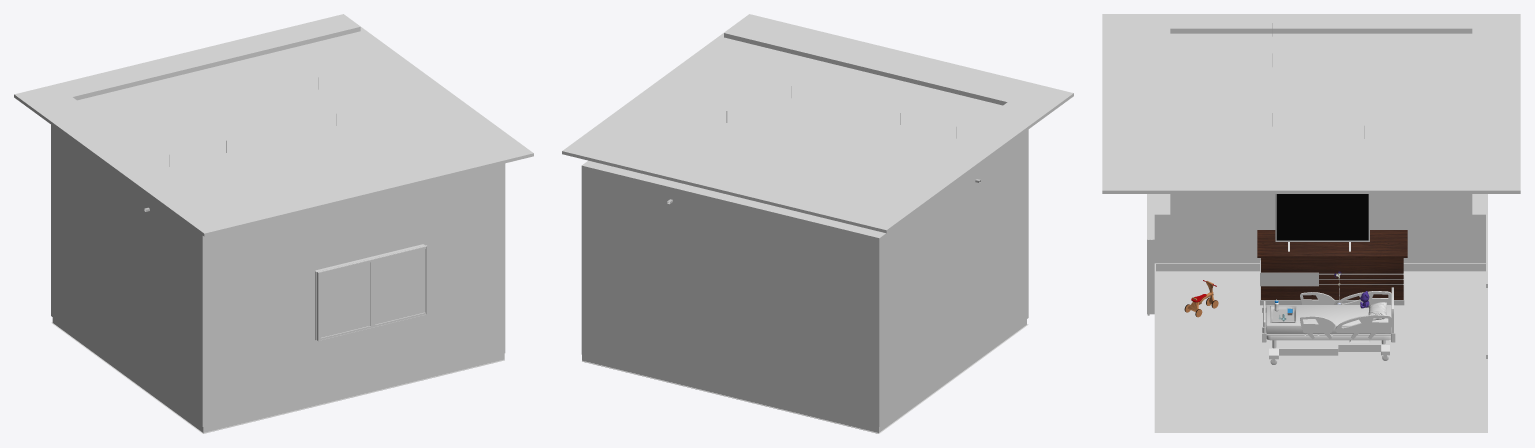
The model's file is hospital.fbx.
3 renders of one model, left to right at view 1: azimuth 30°, elevation 25°; view 2: azimuth 150°, elevation 25°; view 3: azimuth 270°, elevation 25°, orthographic. The views are drawn at different scales.
Parts seen in each view (by area): view 1: wall, Roof, Cube.026; view 2: wall, Roof; view 3: wall, Roof, Table, Bed, TV, Cube.003, Wooden_bicycle.007.
Part boxes in pixels (x1=…): wall: x1=51, y1=21, x2=505, y2=433; Roof: x1=14, y1=14, x2=533, y2=236; Cube.026: x1=317, y1=245, x2=427, y2=341; wall: x1=581, y1=28, x2=1028, y2=433; Roof: x1=562, y1=14, x2=1073, y2=233; wall: x1=1147, y1=21, x2=1487, y2=432; Roof: x1=1102, y1=14, x2=1520, y2=193; Table: x1=1257, y1=230, x2=1407, y2=305; Bed: x1=1262, y1=287, x2=1395, y2=364; TV: x1=1275, y1=194, x2=1369, y2=251; Cube.003: x1=1170, y1=194, x2=1487, y2=358; Wooden_bicycle.007: x1=1184, y1=280, x2=1218, y2=317.
Bounding box in the file's own units: 459 × 314 × 459.
